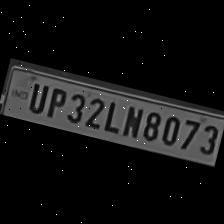0: (156, 108, 182, 146)
2: (82, 92, 108, 128)
3: (194, 118, 222, 156), (61, 86, 88, 123)
7: (174, 114, 202, 152)
8: (136, 104, 164, 142)
L: (99, 94, 126, 134)
N: (118, 100, 144, 138)
P: (41, 80, 68, 120)
U: (23, 76, 49, 114)
